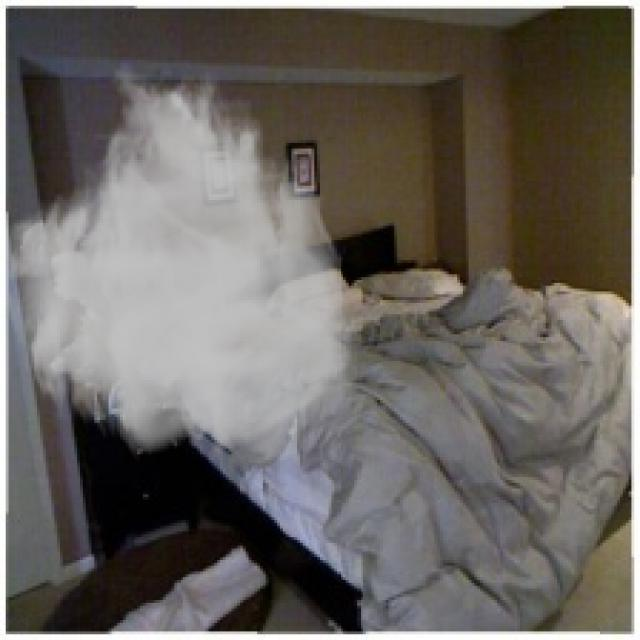Smoke: (3, 59, 360, 474)
